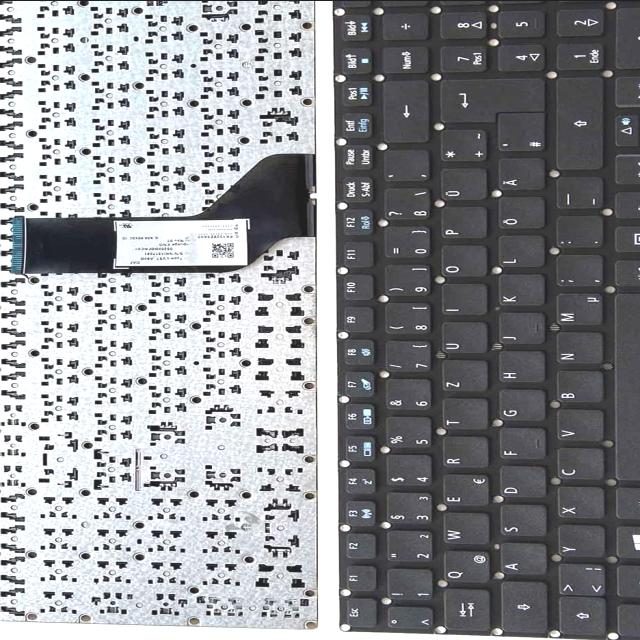0: (381, 226, 433, 260)
1: (384, 569, 434, 602)
2: (384, 529, 434, 563)
3: (383, 491, 433, 525)
4: (383, 453, 433, 487)
5: (384, 415, 432, 449)
6: (383, 378, 432, 412)
7: (383, 339, 433, 373)
8: (383, 303, 433, 335)
9: (382, 263, 432, 297)
a: (498, 542, 548, 576)
accent: (380, 148, 430, 182)
ae: (496, 157, 546, 191)
alt-left: (612, 487, 640, 521)
altgr-right: (612, 259, 640, 287)
b: (554, 370, 604, 404)
c: (554, 446, 604, 480)
caret: (385, 606, 434, 630)
comma: (554, 254, 604, 288)
d: (497, 465, 547, 499)
del: (381, 80, 427, 144)
e: (440, 472, 492, 508)
enter: (438, 79, 546, 123)
f: (497, 427, 547, 461)
g: (497, 388, 545, 422)
h: (497, 350, 546, 384)
hash: (494, 114, 546, 153)
i: (439, 282, 488, 317)
j: (496, 312, 546, 346)
k: (495, 273, 545, 307)
keyboard: (331, 0, 640, 640)
l: (495, 235, 545, 269)
less: (555, 563, 607, 596)
m: (554, 292, 604, 326)
minus: (553, 175, 605, 210)
n: (554, 331, 604, 366)
o: (438, 244, 488, 278)
oe: (496, 196, 546, 230)
p: (438, 205, 488, 240)
plus: (436, 129, 488, 163)
point: (554, 215, 603, 249)
q: (442, 549, 492, 584)
r: (440, 435, 490, 470)
s: (498, 503, 548, 538)
shift-left: (557, 597, 606, 637)
shift-lock: (499, 581, 547, 636)
shift-right: (553, 77, 603, 172)
space: (612, 292, 640, 483)
ss: (382, 187, 432, 221)
strg-left: (614, 604, 640, 640)
strg-right: (614, 190, 640, 220)
t: (440, 397, 488, 431)
tab: (441, 588, 490, 632)
u: (439, 321, 488, 355)
ue: (437, 167, 489, 202)
v: (554, 408, 604, 442)
w: (440, 511, 492, 546)
x: (555, 486, 605, 520)
y: (556, 524, 606, 558)
z: (439, 359, 489, 393)
